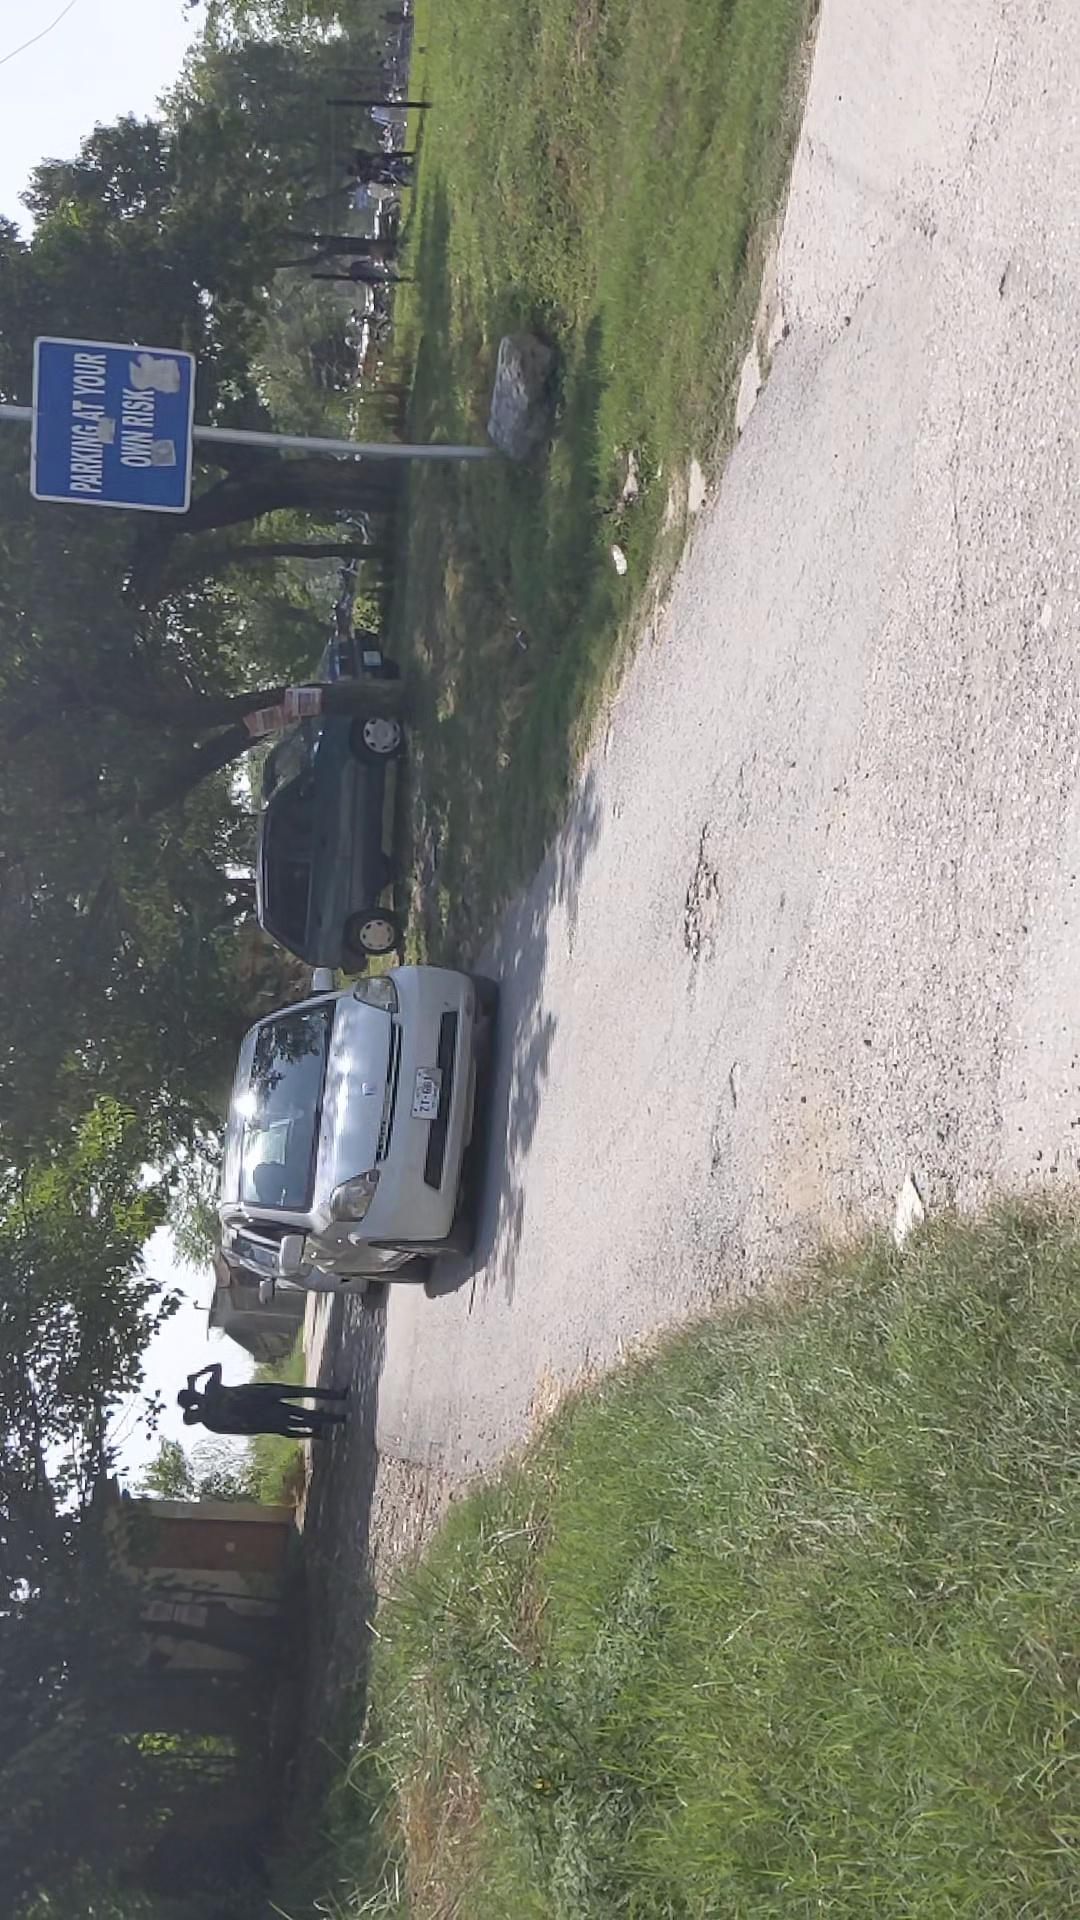windshield: (396, 411, 524, 604)
